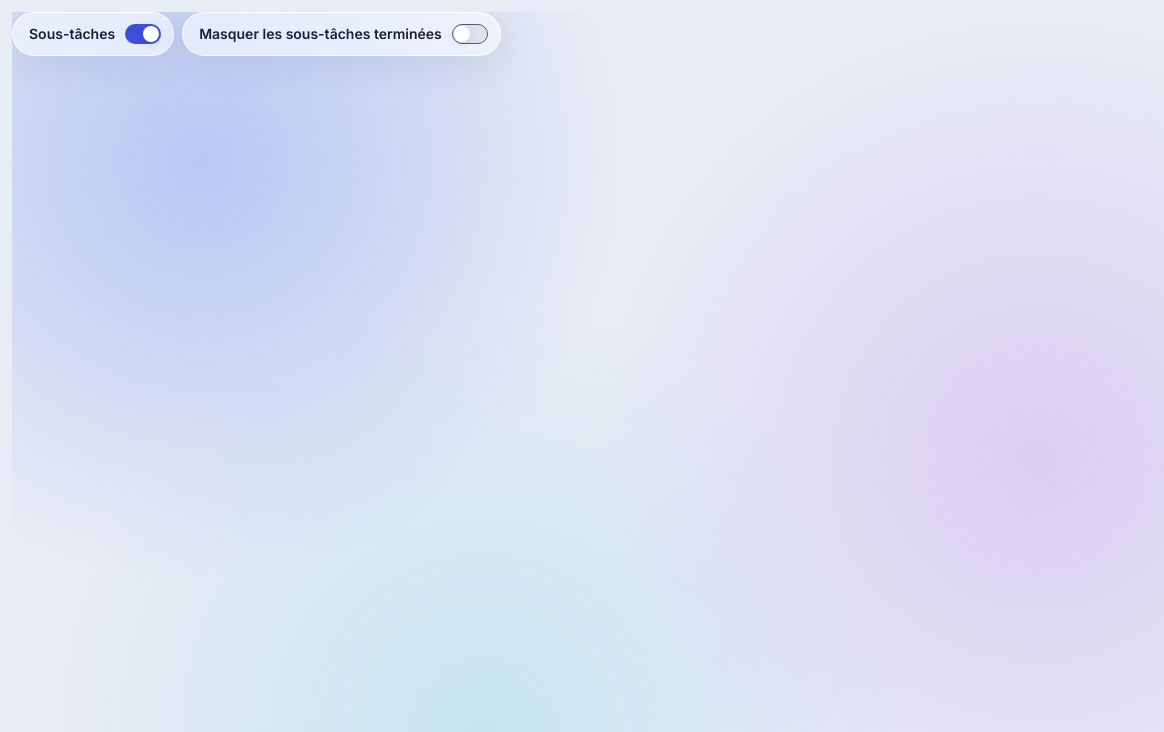
Test case: options du tableau › échec de l'enregistrement : message visible et retour à la valeur enregistrée
What coordinates should you click on to do the following:
click the switch labelled "Sous-tâches"
I would click on:
 (93, 34)
Its box is left=12, top=12, right=174, bottom=56.
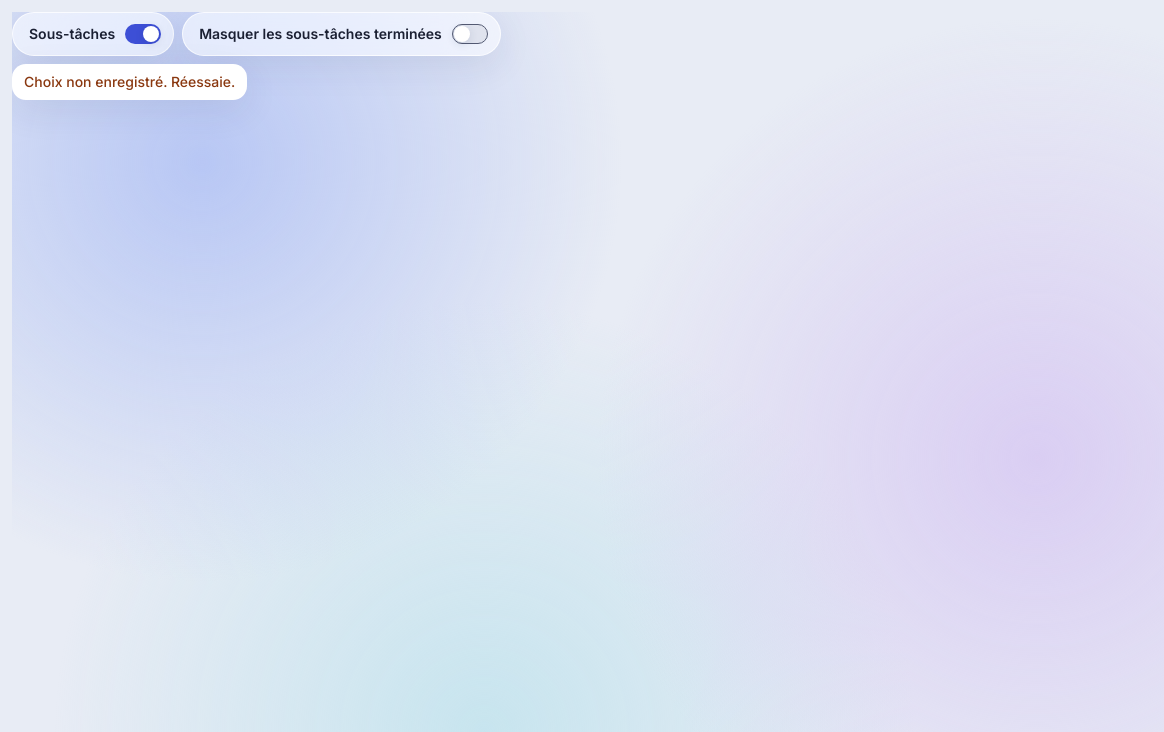
Expected: the switch labelled "Masquer les sous-tâches terminées" is enabled, left=182, top=12, right=501, bottom=56
Now the message reads "Choix non enregistré. Réessaie.", box left=24, top=73, right=235, bottom=90
